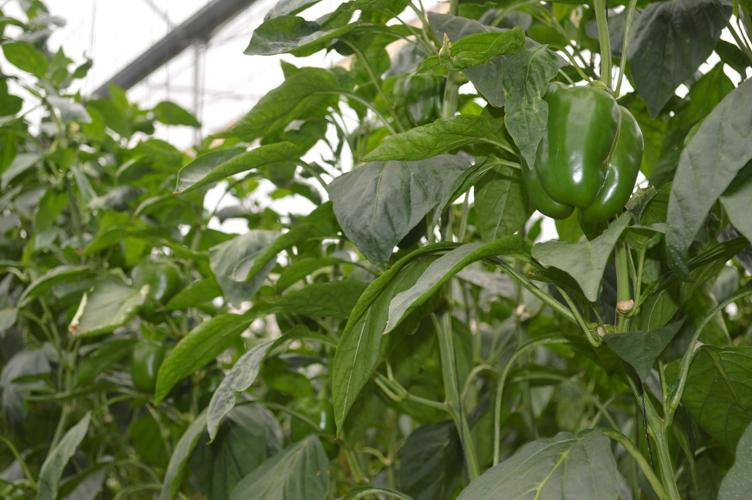BellPepper: (511, 76, 650, 230)
